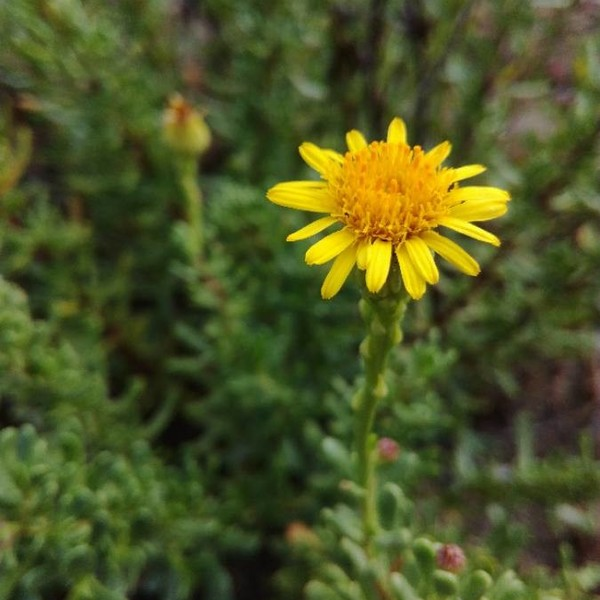obstacle: (268, 123, 484, 559)
